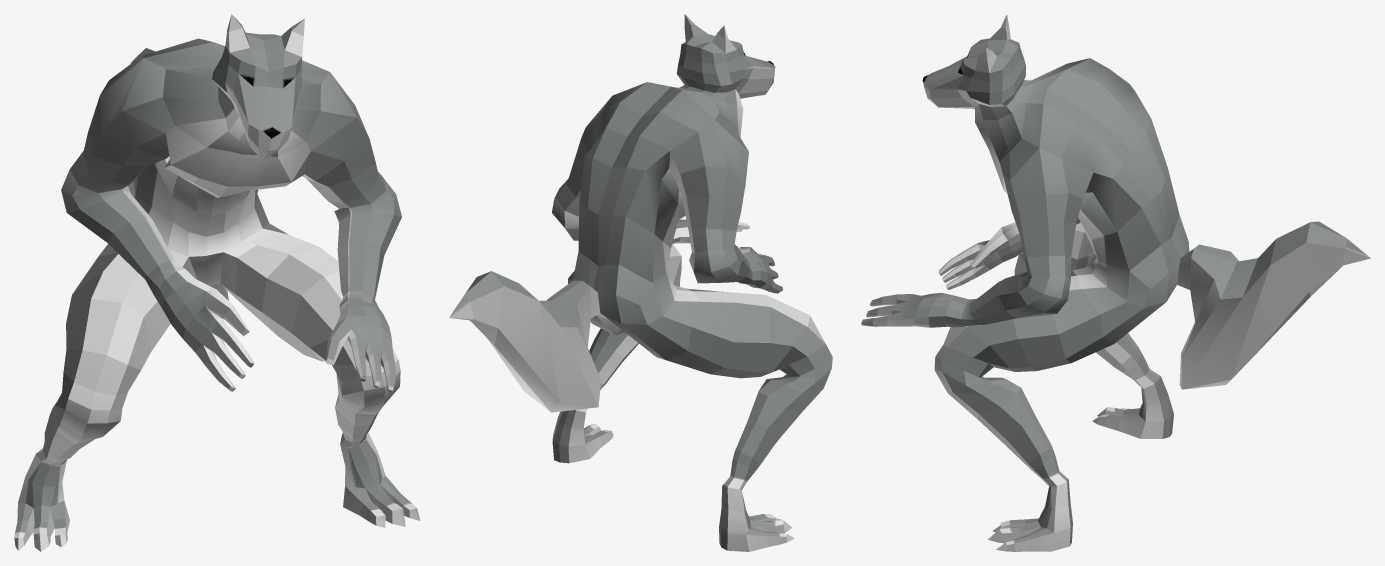
Rendered from WolfAttack(108).obj.
3 views of the same model, side by side, from view 1: azimuth 30°, elevation 25°; view 2: azimuth 150°, elevation 25°; view 3: azimuth 270°, elevation 25° (orthographic). The views are drawn at different scales.
Parts seen in each view (by area): view 1: Box001; view 2: Box001; view 3: Box001.
Part boxes in pixels (x1,y1,x2,y2): Box001: (14,14,420,551); Box001: (449,14,832,551); Box001: (861,14,1370,551).
Size of the model in its own units: 76.29 by 119 by 119.
